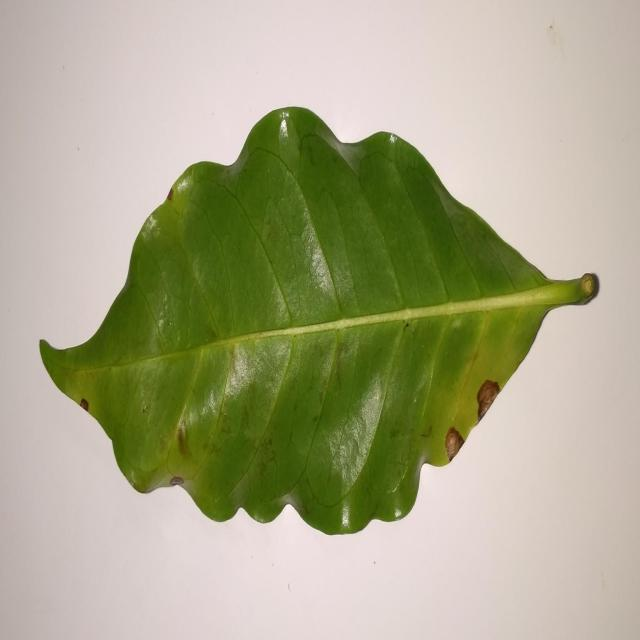Enfermedad-Mancha-de-hierro: (38, 108, 601, 539)
